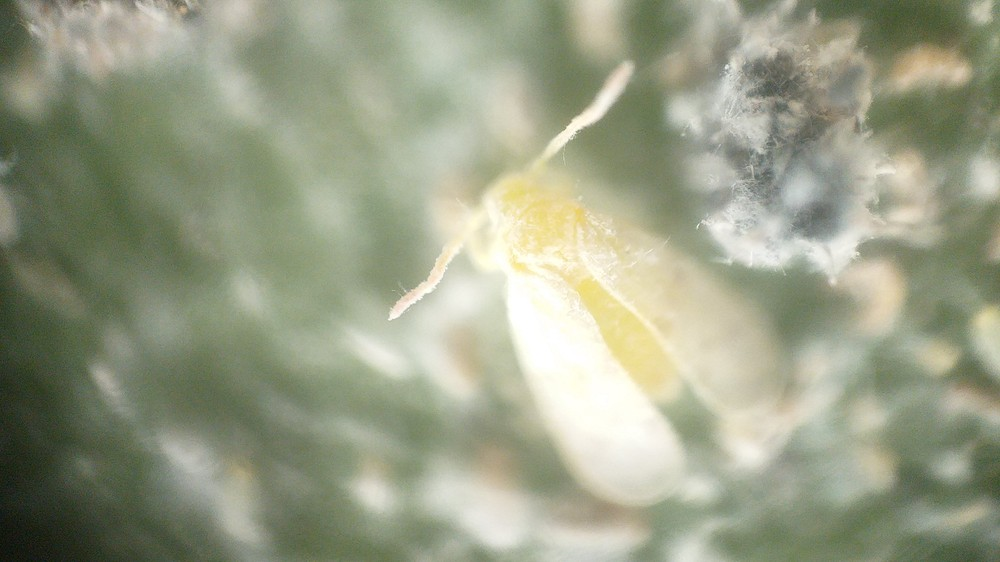Mosca Blanca: (367, 48, 836, 535)
